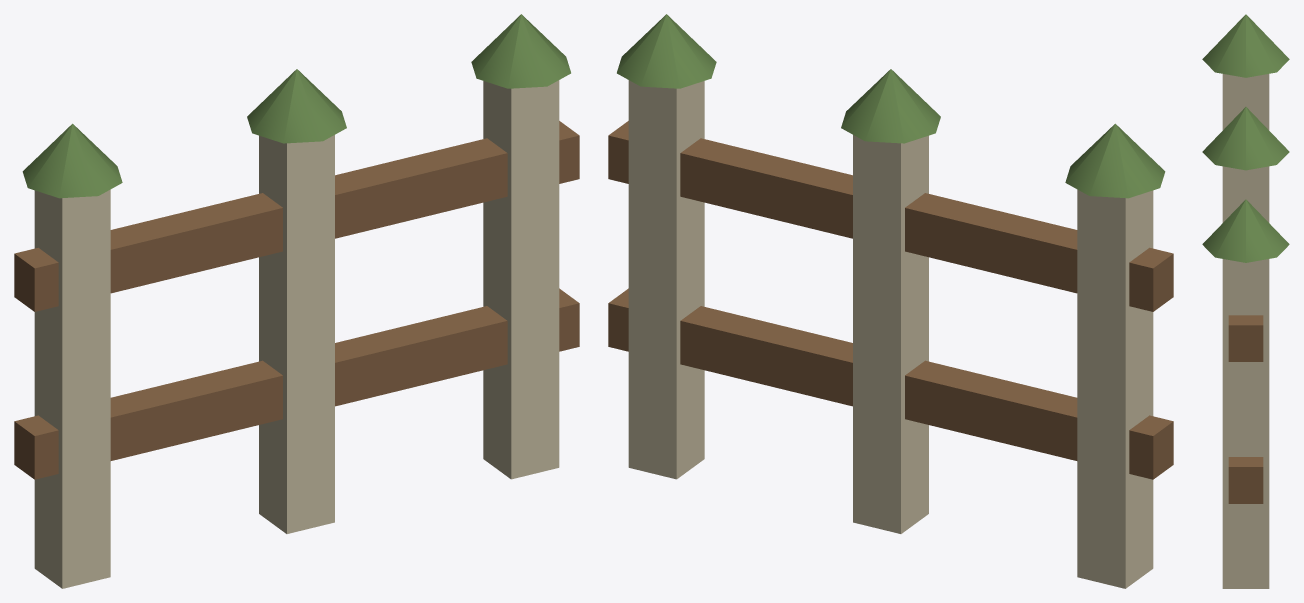
Rendered from decoration-fence.glb.
3 views of the same model, side by side, from view 1: azimuth 30°, elevation 25°; view 2: azimuth 150°, elevation 25°; view 3: azimuth 270°, elevation 25° (orthographic). The views are drawn at different scales.
Parts seen in each view (by area): view 1: decoration-fence-visual; view 2: decoration-fence-visual; view 3: decoration-fence-visual.
Boxes of the visible parts, x1,y1,x2,y2 form: decoration-fence-visual: [14, 14, 579, 588]; decoration-fence-visual: [608, 14, 1173, 588]; decoration-fence-visual: [1202, 14, 1289, 588].
Bounding box in the file's own units: 0.85 × 0.67 × 0.14.
